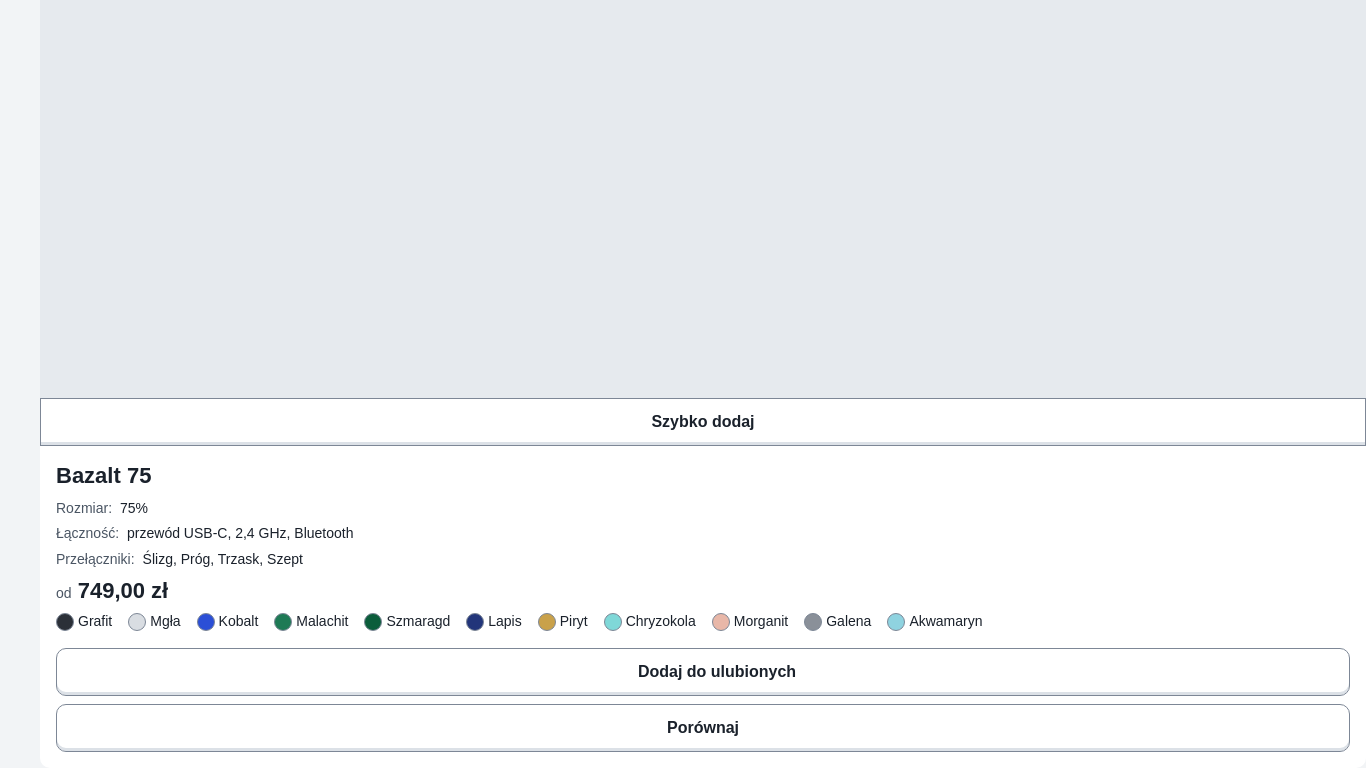
Test: panel wyboru wariantu (F-043) › dodanie: SKU i ilosc 1 trafiaja do koszyka bez cen, toast 'Dodano do koszyka' i add_to_cart z lista z karty
(page scrolled)
Click the button "Szybko dodaj": (703, 422) 40,398 -> 1365,446
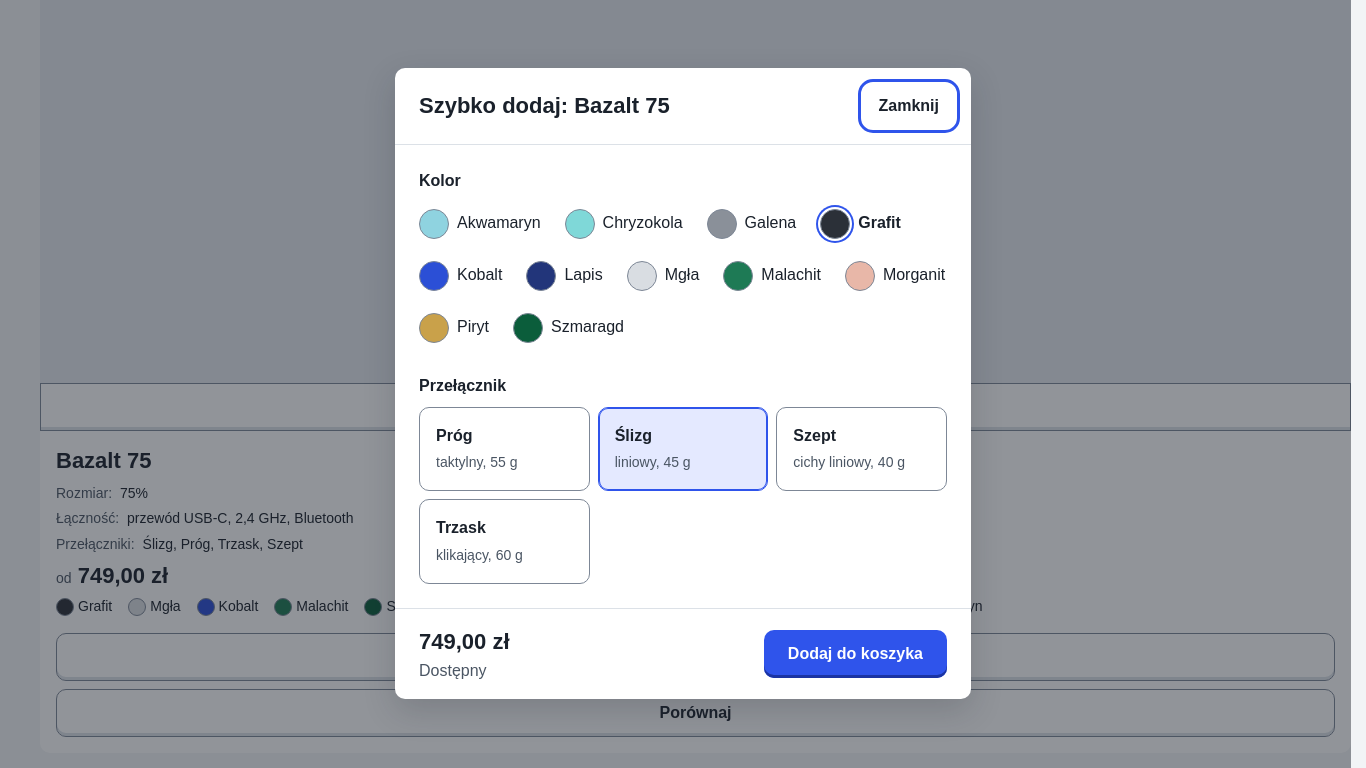
Click the radio button labelled "Kobalt": (461, 276) 419,254 -> 502,298
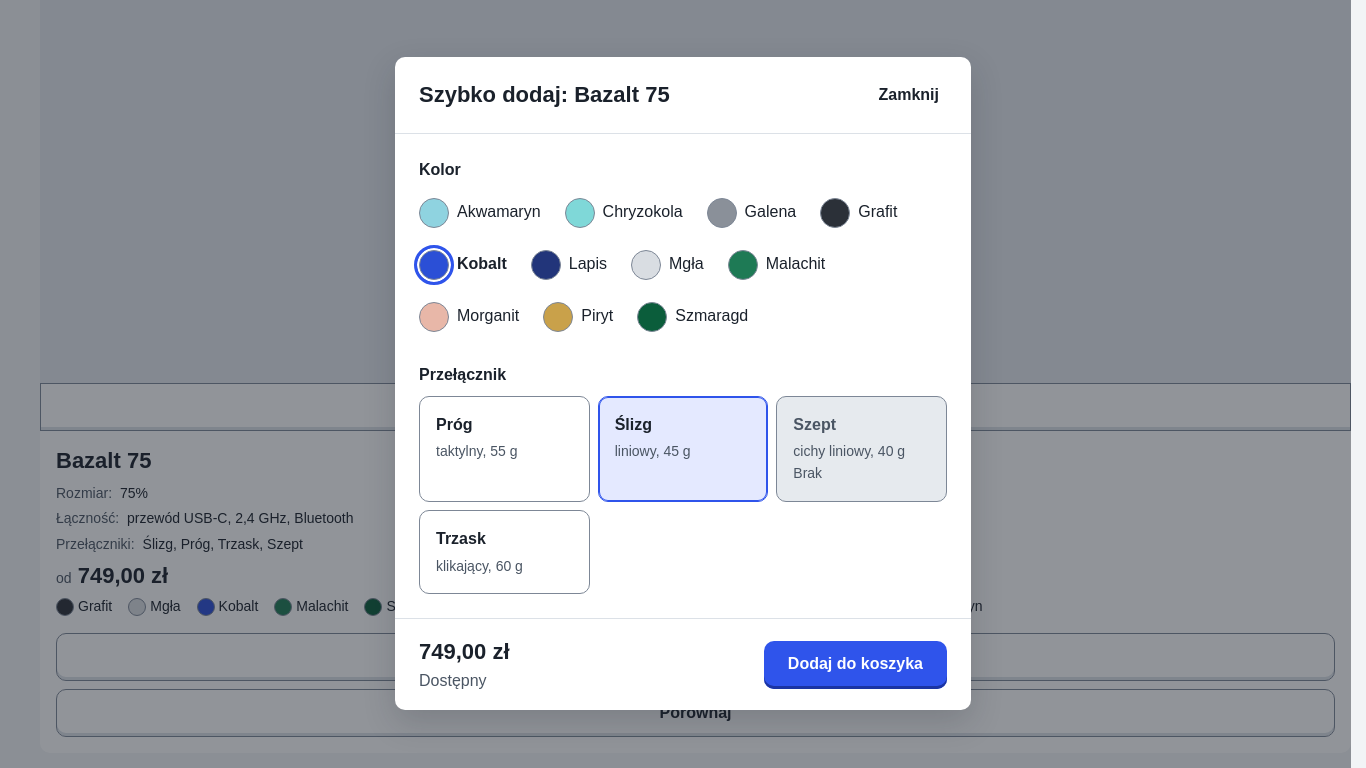
Click the button "Dodaj do koszyka": (855, 665) 764,641 -> 947,689
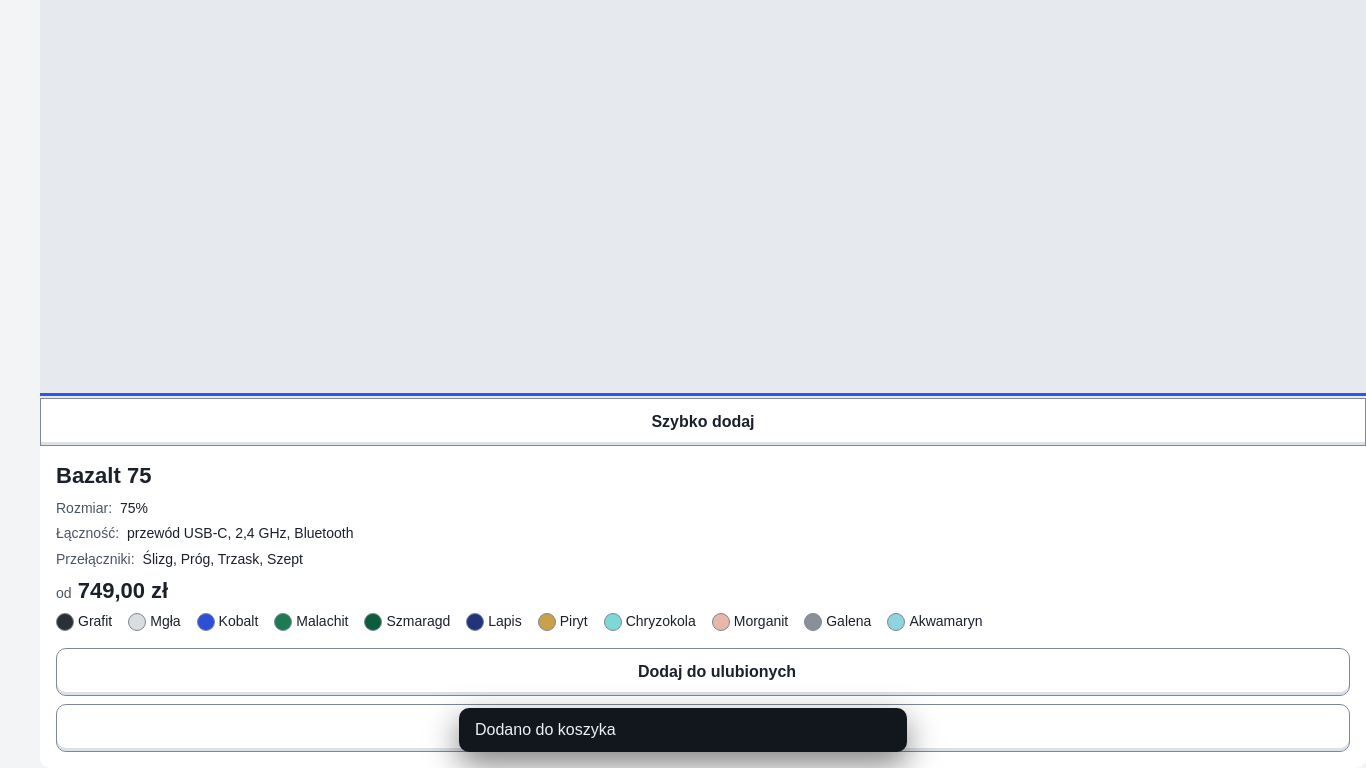
Expected: the text "Dodano do koszyka" is shown, 475,718 -> 616,742
Expected: the dialog is gone
